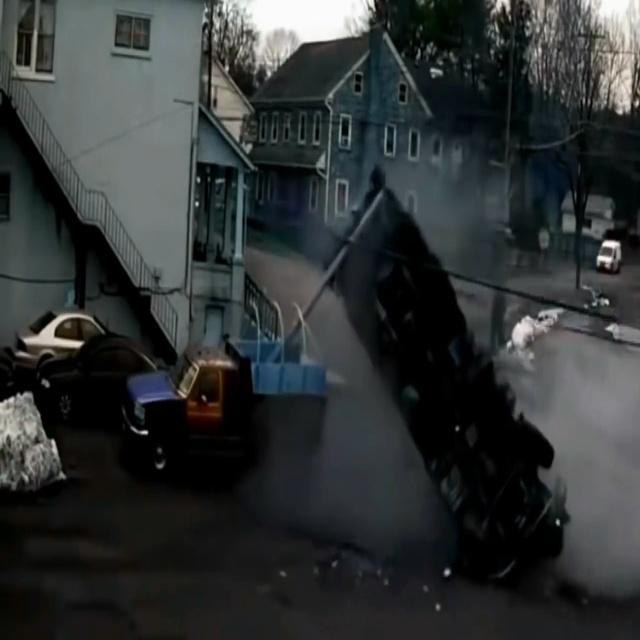acc: (328, 169, 571, 583)
